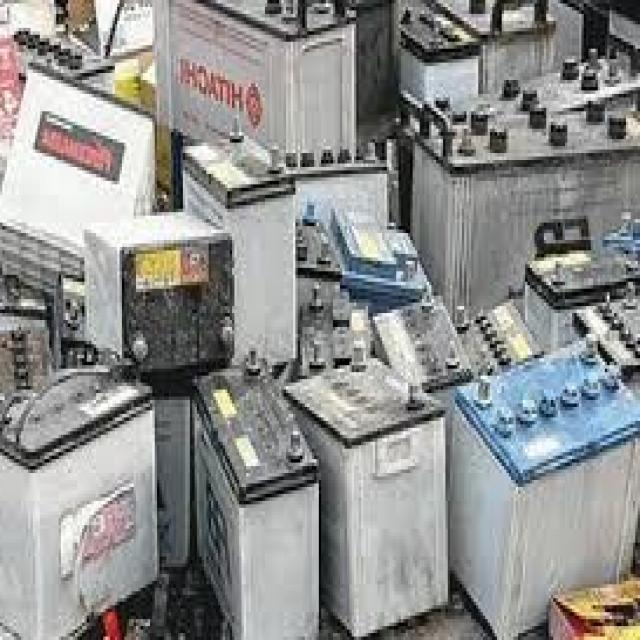battery: (451, 328, 640, 640), (412, 103, 640, 326), (282, 337, 447, 639), (0, 359, 151, 640), (153, 2, 353, 206), (189, 340, 315, 634), (182, 108, 296, 370), (84, 207, 235, 370)
